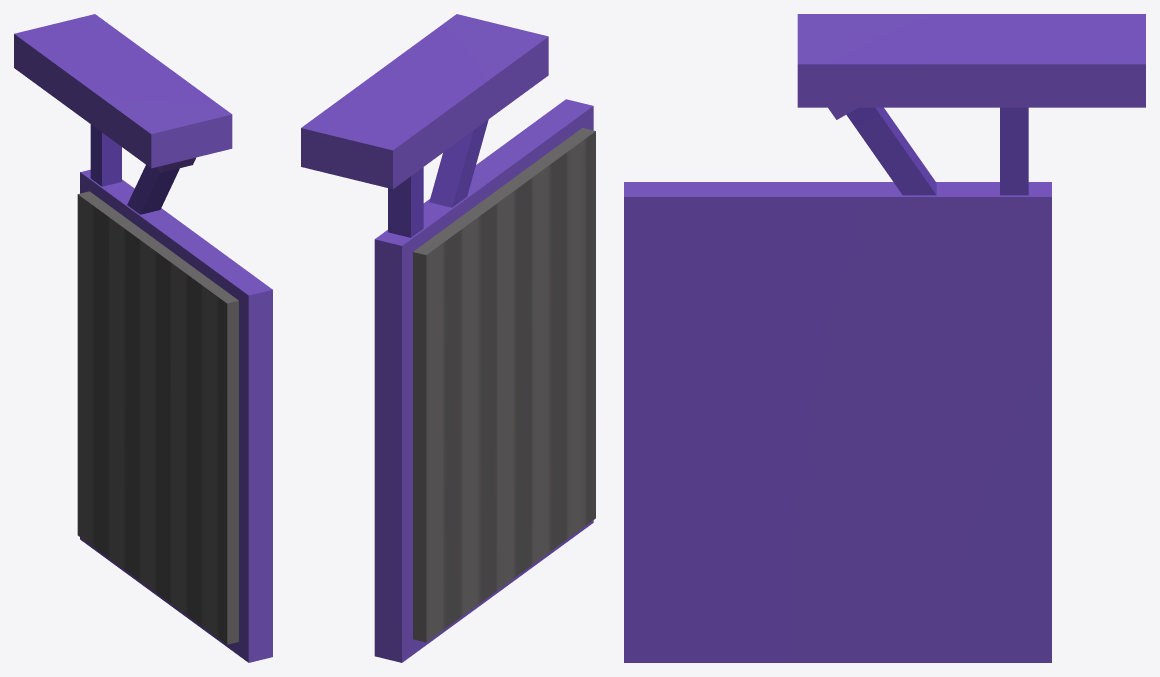
Rendered from SignProp_1_C_4.fbx.
3 renders of one model, left to right at view 1: azimuth 30°, elevation 25°; view 2: azimuth 150°, elevation 25°; view 3: azimuth 270°, elevation 25°, orthographic. The views are drawn at different scales.
Visible parts, largest first — view 1: SignProp_1_C_4; view 2: SignProp_1_C_4; view 3: SignProp_1_C_4.
Part boxes in pixels (<box>): SignProp_1_C_4: <box>14,14,272,662</box>; SignProp_1_C_4: <box>301,14,595,662</box>; SignProp_1_C_4: <box>624,14,1145,662</box>.
Size of the model in its own units: 20.79 by 119 by 91.36.
